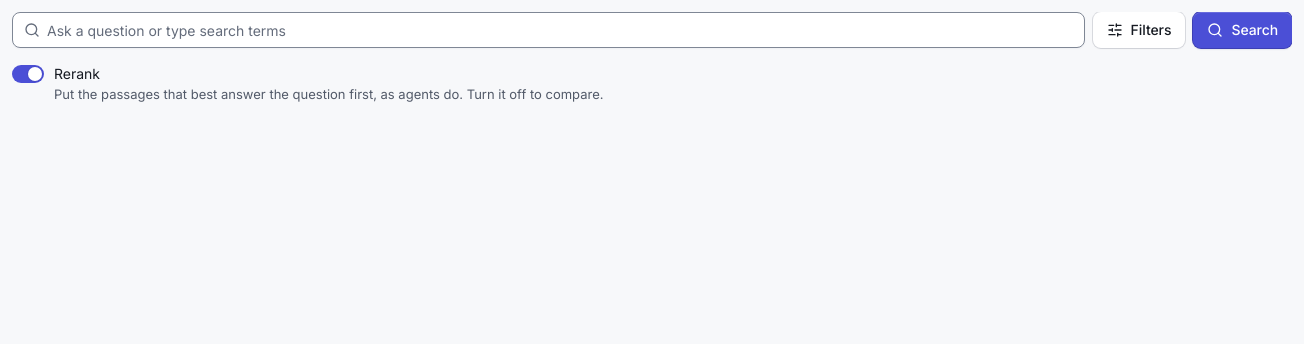
Scenario: Try it reranking › says when reranking failed and the usual order was kept
This screenshot has width=1304, height=344.
Step 1. Type "fee" into the field named "Question or search terms" → (548,30), box top-left (12, 12), bottom-right (1085, 48)
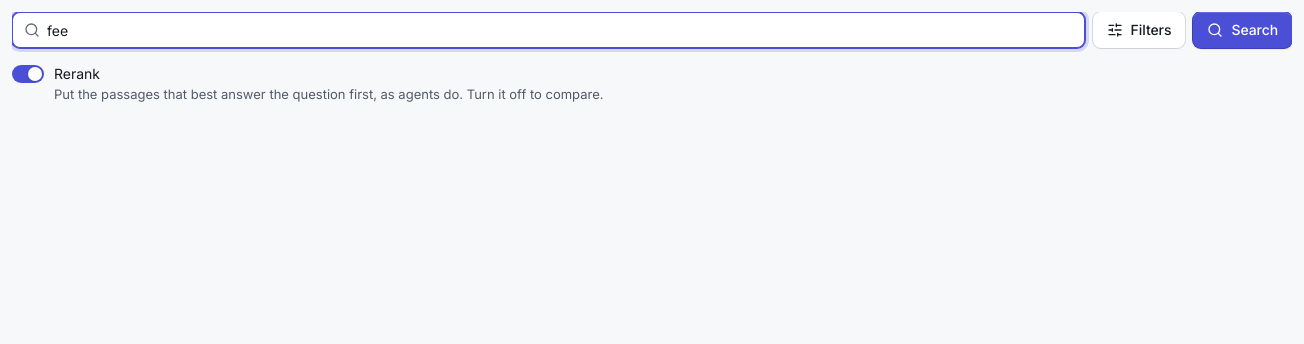
Step 2. Click the button "Search" → (1243,30), box top-left (1193, 12), bottom-right (1292, 48)
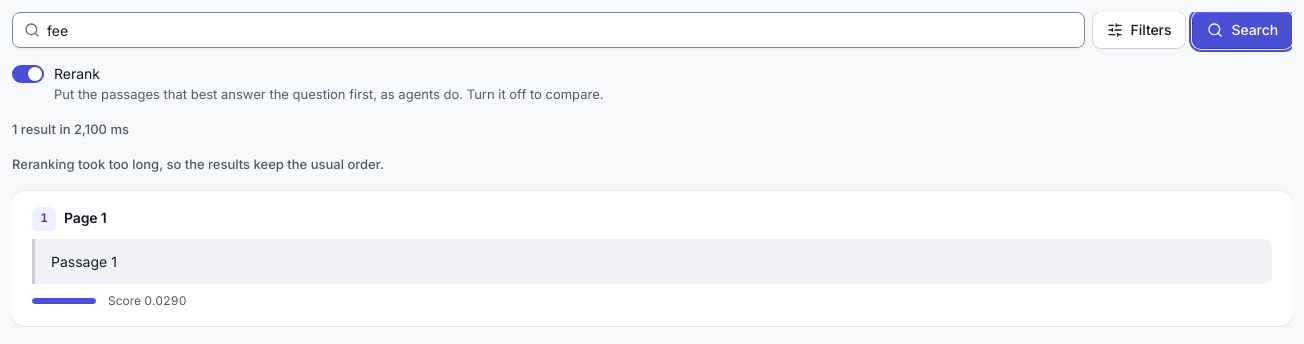
Check: the text "Reranking took too long, so the results keep the usual order." is shown, box top-left (12, 156), bottom-right (384, 172)
